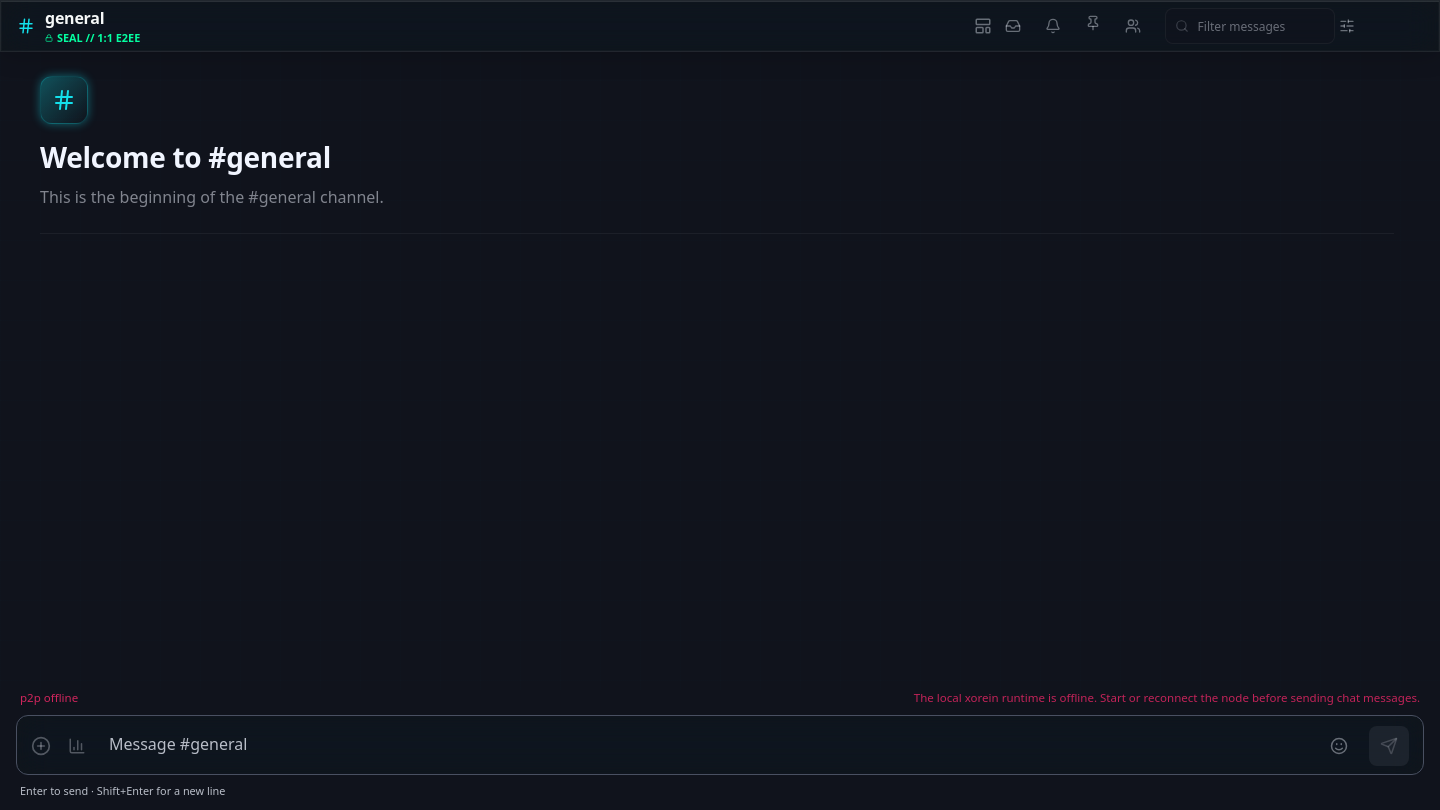
Test: ChatArea › opens a security-mode summary dialog when the header badge is clicked
What coordinates should you click on to do the following:
click the button "SEAL // 1:1 E2EE"
I would click on:
 (93, 38)
Its box is [45,30,140,46].
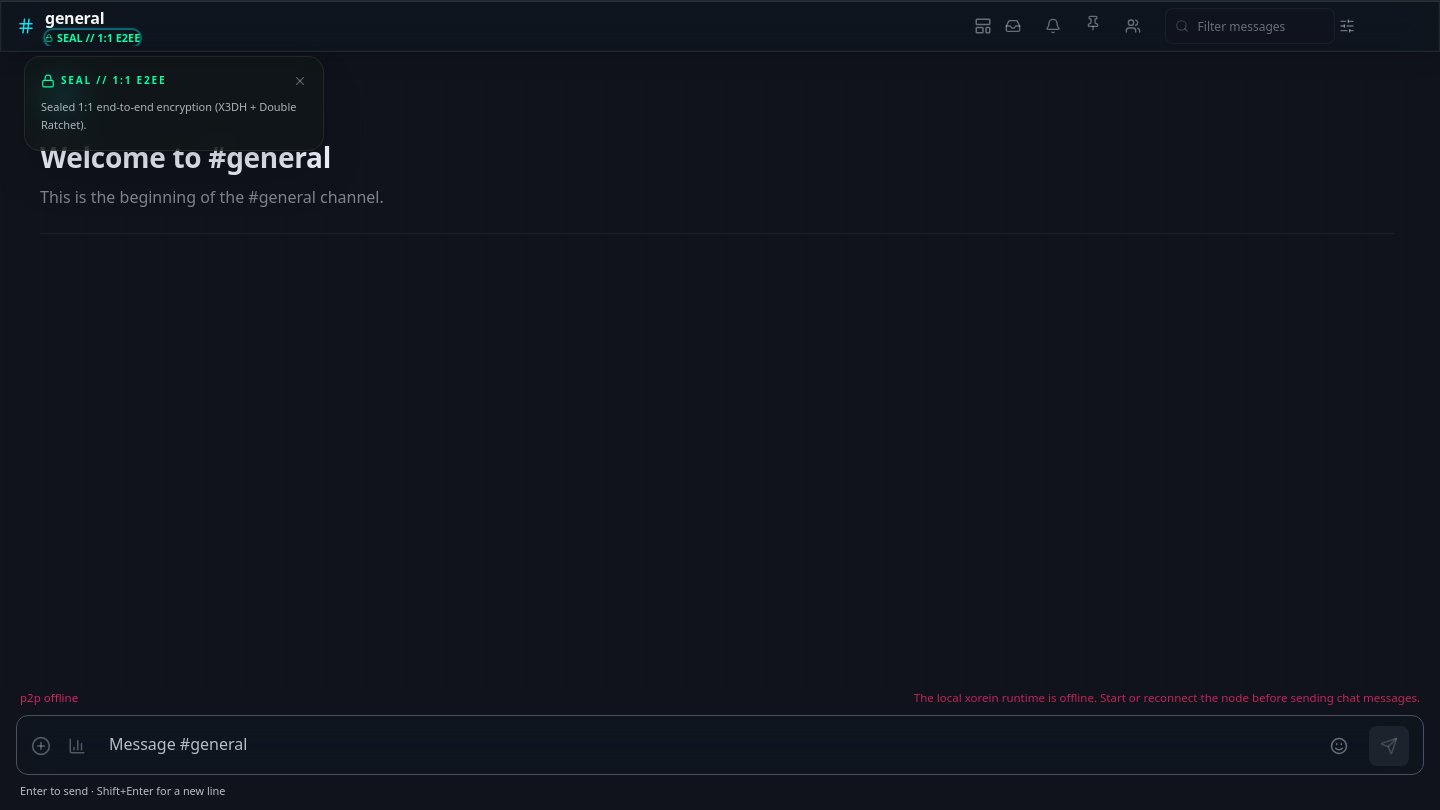
Check: the dialog named "security mode" is shown, box [24,56,324,151]
